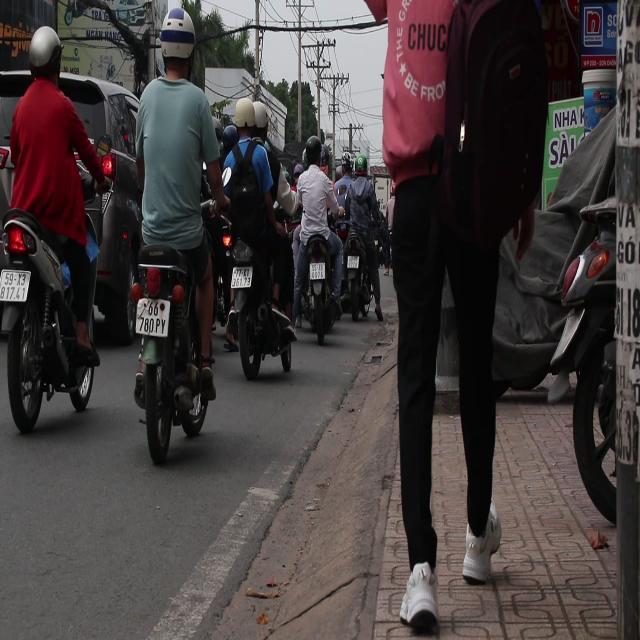motorbike: (0, 182, 101, 432), (122, 224, 218, 460), (212, 213, 296, 378), (305, 232, 339, 352), (346, 231, 378, 333)
